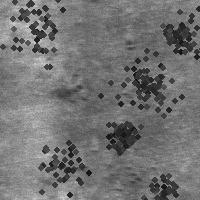rolled-in_scale: (100, 39, 188, 127), (0, 0, 83, 73), (26, 129, 96, 199), (148, 0, 200, 64), (99, 112, 143, 156), (99, 158, 145, 200), (138, 165, 182, 200), (50, 74, 95, 106)
